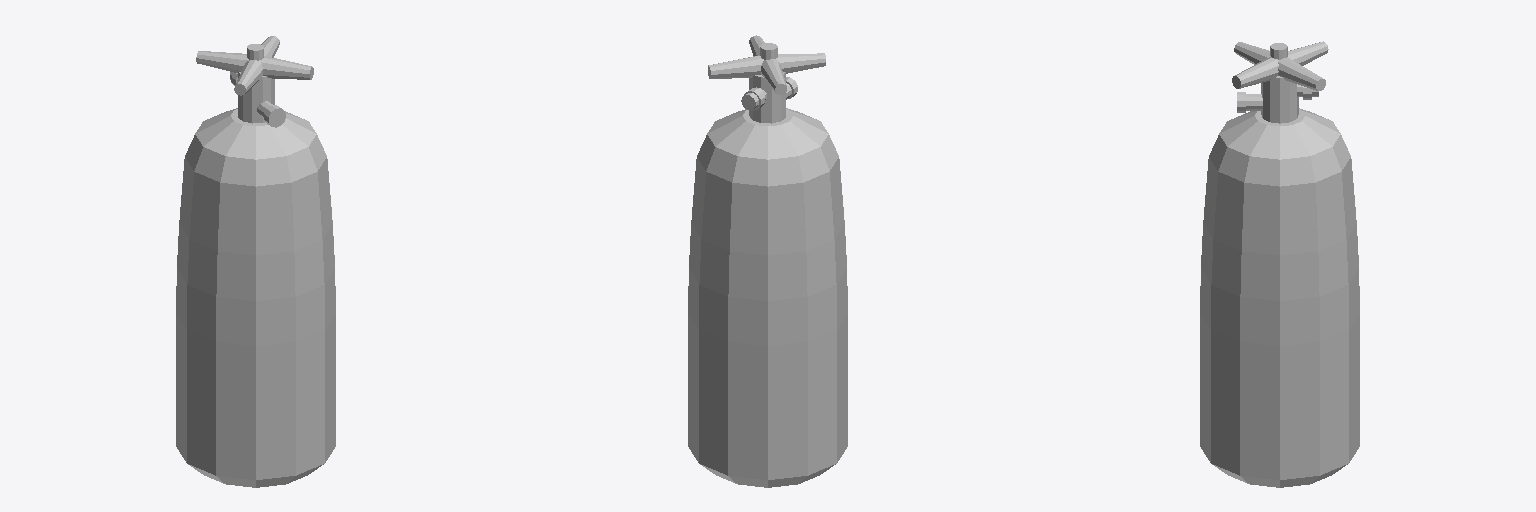
The model's file is Oxygen.obj.
3 renders of one model, left to right at view 1: azimuth 30°, elevation 25°; view 2: azimuth 150°, elevation 25°; view 3: azimuth 270°, elevation 25°, orthographic.
Parts seen in each view (by area): view 1: pCylinder2_yellow_0, pasted__pasted__pasted__pCylinder3_white_metal_0, pCylinder3_white_metal_0; view 2: pCylinder2_yellow_0, pasted__pasted__pasted__pCylinder3_white_metal_0, pCylinder3_white_metal_0; view 3: pCylinder2_yellow_0, pasted__pasted__pasted__pCylinder3_white_metal_0, pCylinder3_white_metal_0.
Part boxes in pixels (bbox=[...]): pCylinder2_yellow_0: bbox=[176, 108, 335, 487]; pasted__pasted__pasted__pCylinder3_white_metal_0: bbox=[196, 36, 313, 95]; pCylinder3_white_metal_0: bbox=[238, 72, 274, 123]; pCylinder2_yellow_0: bbox=[688, 108, 847, 487]; pasted__pasted__pasted__pCylinder3_white_metal_0: bbox=[708, 35, 825, 94]; pCylinder3_white_metal_0: bbox=[749, 72, 785, 123]; pCylinder2_yellow_0: bbox=[1200, 108, 1359, 487]; pasted__pasted__pasted__pCylinder3_white_metal_0: bbox=[1232, 41, 1328, 90]; pCylinder3_white_metal_0: bbox=[1261, 76, 1298, 123].
Size of the model in its own units: 0.5608 by 1.62 by 0.5608.